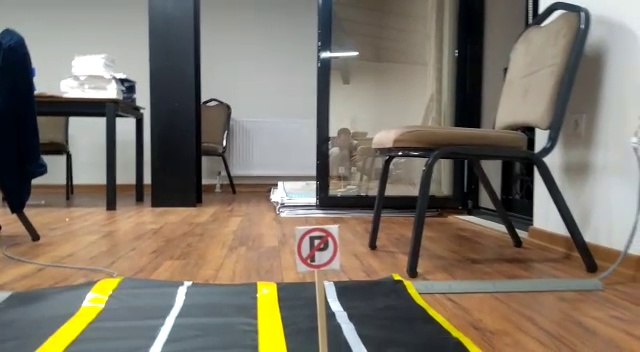park_yapilmaz: (293, 227, 340, 271)
